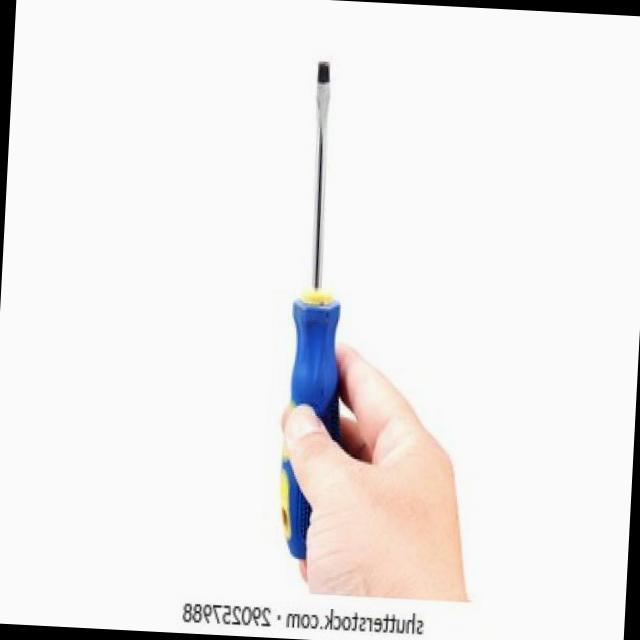screwdriver: (291, 62, 341, 441), (281, 455, 311, 559)
